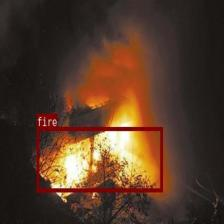fire: (36, 127, 162, 192)
